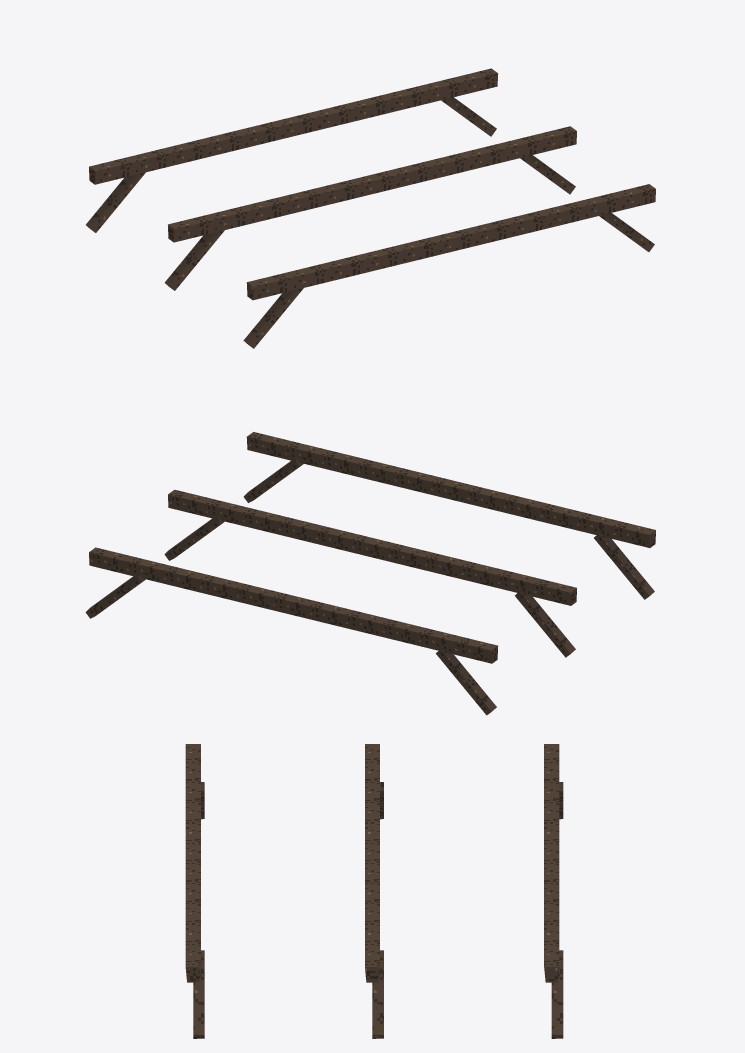
Rendered from cst.ceiling.glb.
The picture shows the model from 3 angles, top to bottom: view 1: azimuth 30°, elevation 25°; view 2: azimuth 150°, elevation 25°; view 3: azimuth 270°, elevation 25°; orthographic projection. The views are drawn at different scales.
Parts seen in each view (by area): view 1: kit_ribs; view 2: kit_ribs; view 3: kit_ribs.
Boxes of the visible parts, <box> form: kit_ribs: <box>86,68,655,348</box>; kit_ribs: <box>85,432,655,715</box>; kit_ribs: <box>185,744,563,1038</box>.
Bounding box in the file's own units: 11.16 × 1.71 × 15.
2 materials, 2 textured.
